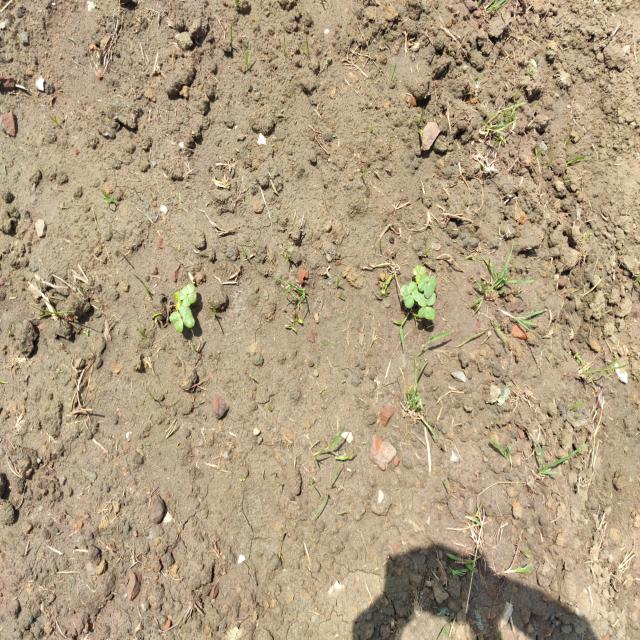seedling: (180, 305, 195, 328), (401, 284, 414, 308), (169, 312, 183, 334), (424, 276, 436, 298), (179, 284, 195, 300), (418, 306, 436, 320), (409, 282, 422, 301), (418, 293, 436, 306), (182, 292, 197, 307), (418, 275, 430, 292), (174, 291, 182, 310), (412, 266, 426, 275), (415, 275, 425, 284)
